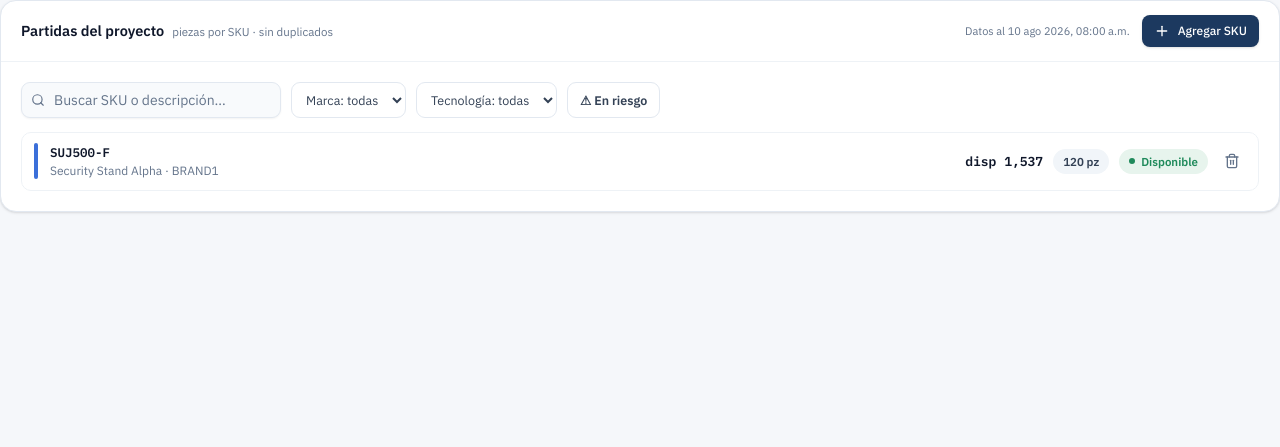
Test: ProyectoPartidas › zero-state filtrado: sin resultados + 'Limpiar filtros' restaura la lista completa
The width and height of the screenshot is (1280, 447).
Type "zzz-no-existe" into the field labelled "Buscar SKU o descripción" at coordinates (151, 100), box [21,82,281,118]
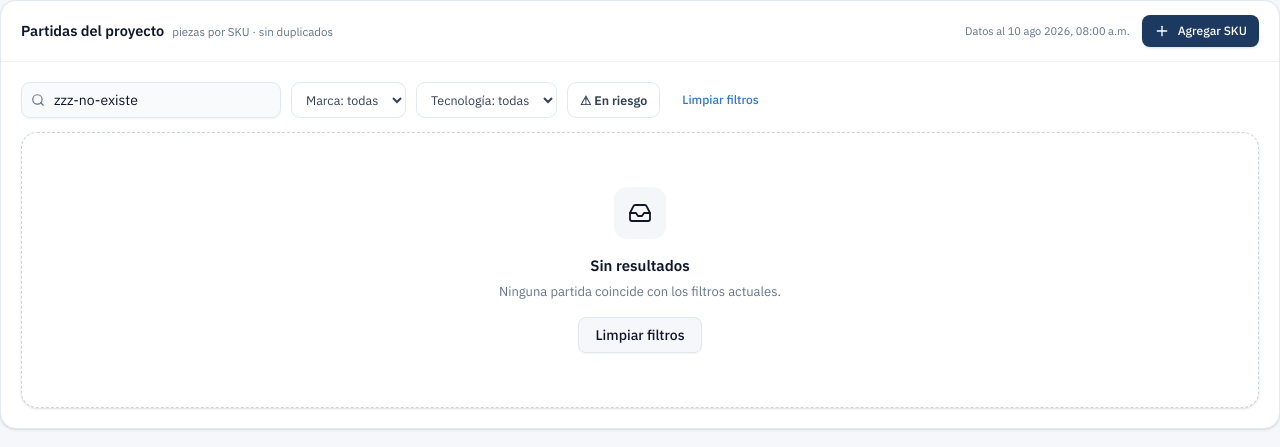
Expected: the text "Sin resultados" is shown, [590,256,690,275]
Expected: the text "Ninguna partida coincide con los filtros actuales." is shown, [499,282,781,301]
Click the 1st button "Limpiar filtros" at coordinates (720, 100), box [670,84,771,116]
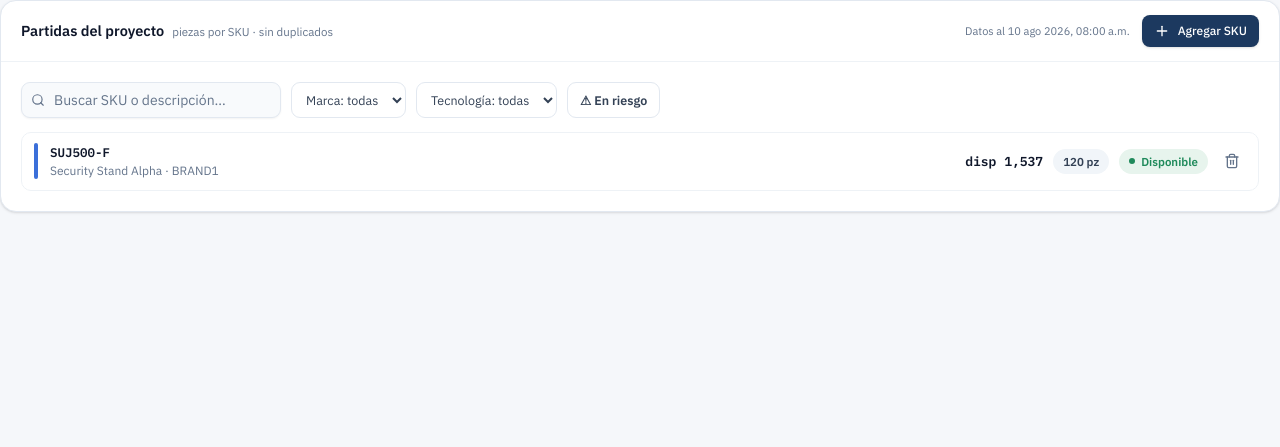
Expected: the text "SUJ500-F" is shown, [50,144,110,160]
